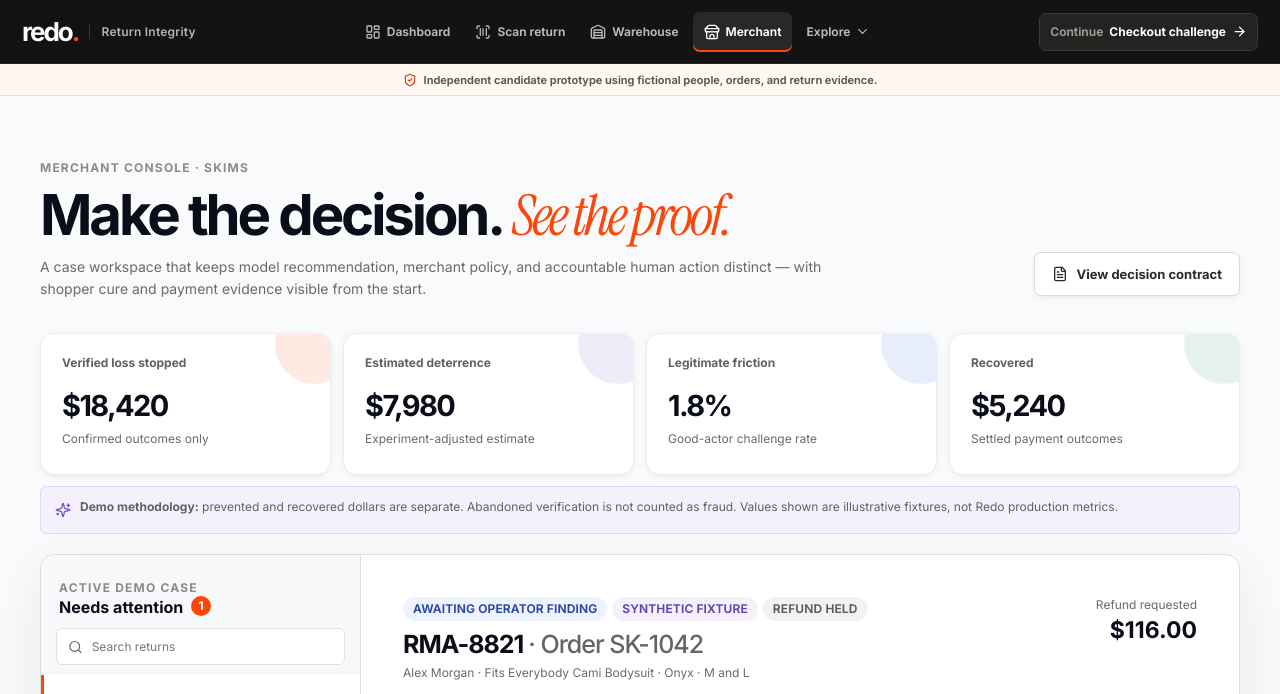
Scenario: interview demo › keeps dashboard inactive on other stations and shows empty search and contest states
Type "zzzz-no-match" into the field labelled "Search returns" at coordinates (211, 646), box [90,638,333,655]
(page scrolled)
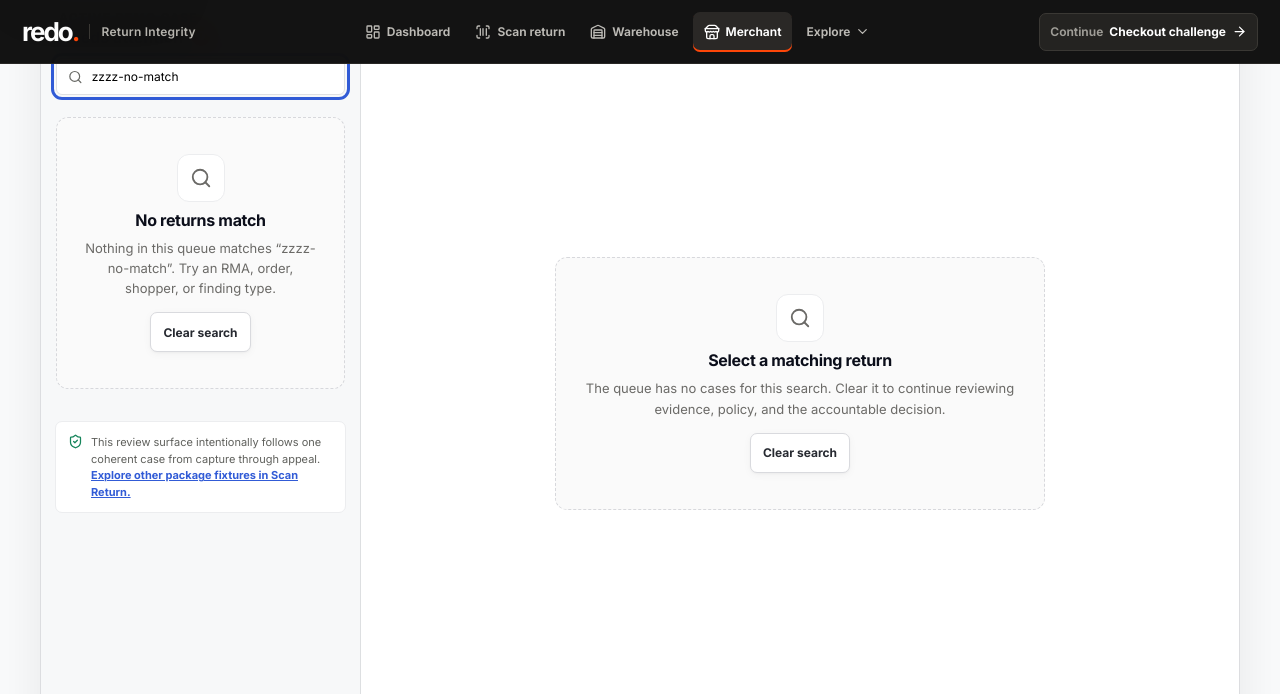
Expected: the heading "No returns match" is shown, [135,210,266,230]
Expected: the heading "Select a matching return" is shown, [708,350,892,370]
